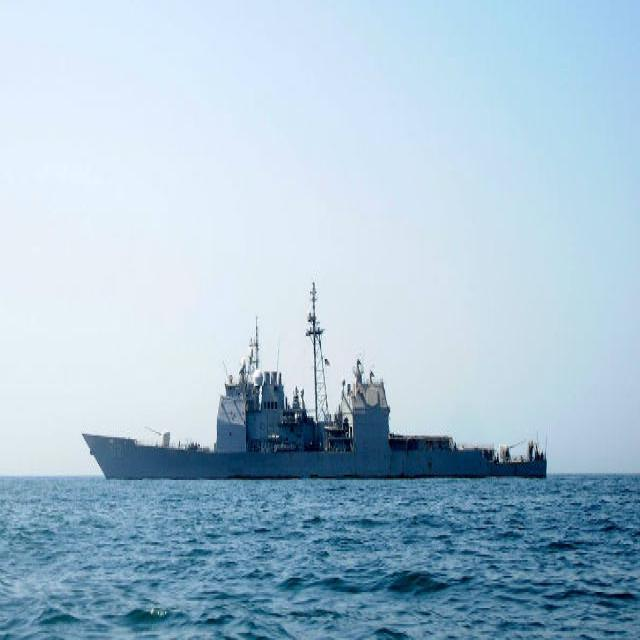navalvessels: (77, 278, 552, 481)
